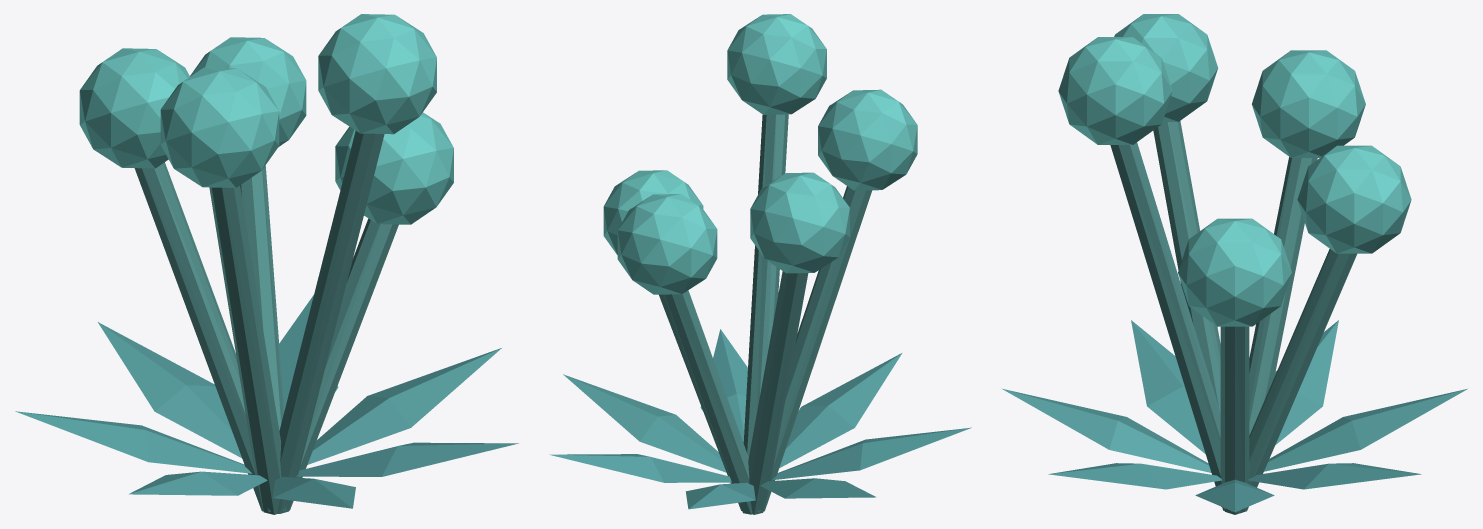
File: bud.glb
3 renders of one model, left to right at view 1: azimuth 30°, elevation 25°; view 2: azimuth 150°, elevation 25°; view 3: azimuth 270°, elevation 25°, orthographic. The views are drawn at different scales.
Parts seen in each view (by area): view 1: bud_3, bud_4, stem_4, stem_3, bud_2, stem_2, bud_0, leaf_0, leaf_2, stem_0, bud_1, leaf_3 (+5 smaller); view 2: bud_1, bud_3, bud_2, bud_4, stem_2, stem_4, stem_3, stem_1, leaf_5, leaf_0, leaf_4, bud_0 (+5 smaller); view 3: bud_0, bud_1, bud_4, bud_2, stem_4, stem_1, bud_3, stem_2, stem_3, stem_0, leaf_5, leaf_2 (+5 smaller).
Boxes of the visible parts, x1=… form: bud_3: x1=160, y1=67, x2=279, y2=187; bud_4: x1=318, y1=14, x2=436, y2=134; stem_4: x1=267, y1=131, x2=384, y2=513; stem_3: x1=209, y1=185, x2=286, y2=514; bud_2: x1=79, y1=48, x2=189, y2=168; stem_2: x1=134, y1=162, x2=270, y2=512; bud_0: x1=335, y1=112, x2=453, y2=224; leaf_0: x1=307, y1=348, x2=501, y2=464; leaf_2: x1=98, y1=322, x2=241, y2=457; stem_0: x1=283, y1=218, x2=398, y2=510; bud_1: x1=190, y1=37, x2=306, y2=146; leaf_3: x1=15, y1=411, x2=252, y2=473; bud_1: x1=617, y1=194, x2=717, y2=294; bud_3: x1=818, y1=89, x2=917, y2=190; bud_2: x1=750, y1=172, x2=849, y2=273; bud_4: x1=727, y1=14, x2=826, y2=114; stem_2: x1=744, y1=271, x2=808, y2=514; stem_4: x1=743, y1=114, x2=788, y2=457; stem_3: x1=757, y1=186, x2=872, y2=512; stem_1: x1=664, y1=290, x2=760, y2=514; leaf_5: x1=779, y1=353, x2=902, y2=467; leaf_0: x1=563, y1=374, x2=726, y2=472; leaf_4: x1=772, y1=427, x2=971, y2=480; bud_0: x1=603, y1=170, x2=703, y2=254; bud_0: x1=1178, y1=218, x2=1291, y2=326; bud_1: x1=1297, y1=145, x2=1411, y2=253; bud_4: x1=1058, y1=37, x2=1172, y2=144; bud_2: x1=1252, y1=50, x2=1365, y2=157; stem_4: x1=1110, y1=142, x2=1231, y2=511; stem_1: x1=1238, y1=249, x2=1356, y2=512; bud_3: x1=1114, y1=14, x2=1217, y2=121; stem_2: x1=1249, y1=157, x2=1317, y2=434; stem_3: x1=1153, y1=121, x2=1221, y2=506; stem_0: x1=1220, y1=326, x2=1249, y2=514; leaf_5: x1=1002, y1=389, x2=1211, y2=472; leaf_2: x1=1264, y1=389, x2=1467, y2=471.
Bounding box in the file's own units: 0.7984 × 0.9401 × 0.8189.
